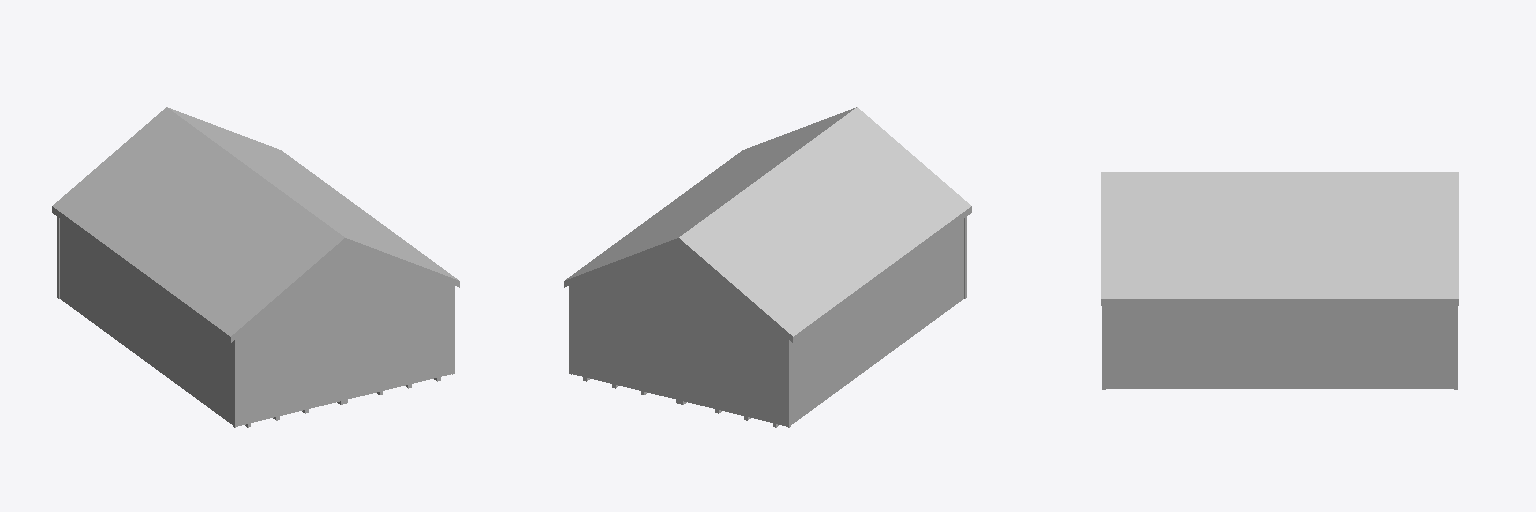
Rendered from Double Garage 6-12 PITCH ROOF_20x28.obj.
3 views of the same model, side by side, from view 1: azimuth 30°, elevation 25°; view 2: azimuth 150°, elevation 25°; view 3: azimuth 270°, elevation 25° (orthographic).
Parts seen in each view (by area): view 1: Double Garage 6-12 PITCH ROOF_20x28.obj; view 2: Double Garage 6-12 PITCH ROOF_20x28.obj; view 3: Double Garage 6-12 PITCH ROOF_20x28.obj.
Part boxes in pixels (left/top/right/bottom): Double Garage 6-12 PITCH ROOF_20x28.obj: left=52, top=107, right=459, bottom=427; Double Garage 6-12 PITCH ROOF_20x28.obj: left=564, top=107, right=971, bottom=427; Double Garage 6-12 PITCH ROOF_20x28.obj: left=1101, top=172, right=1458, bottom=389.
Size of the model in its own units: 6.4 by 4.46 by 8.64.